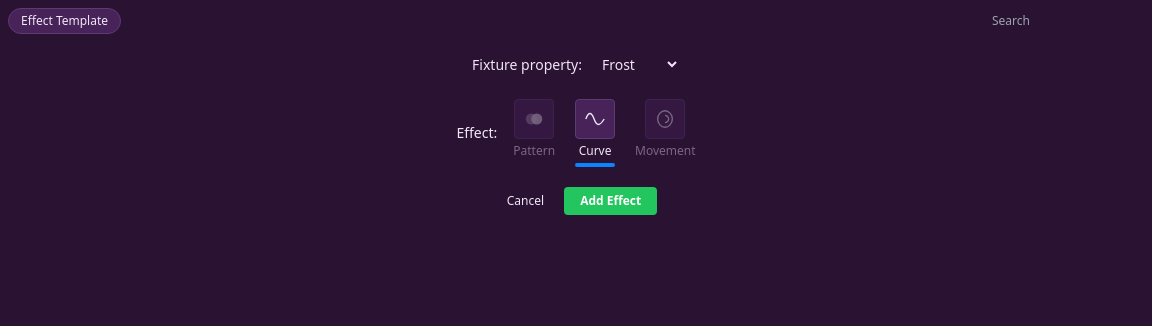
Test: effects chooser › adds a Frost curve effect from the template editor
Click the button "Add Effect".
click(611, 201)  # box [564,187,657,215]
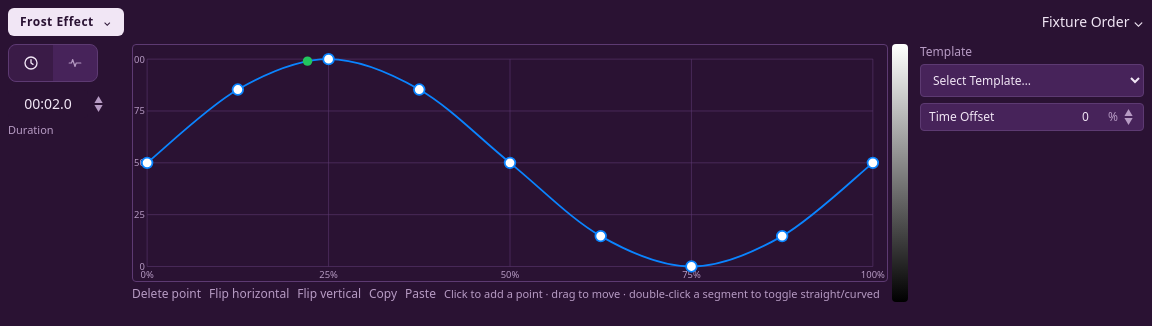
expect the element with test id "effect-editor" is shown: met
